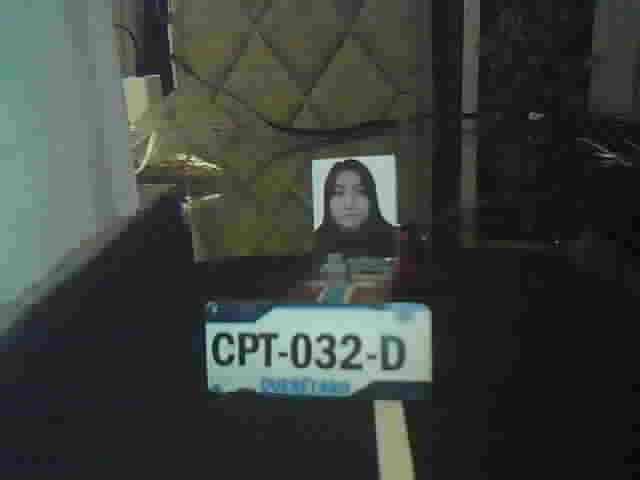PLACA: (196, 299, 437, 404)
ROSTRO: (311, 156, 396, 245)
